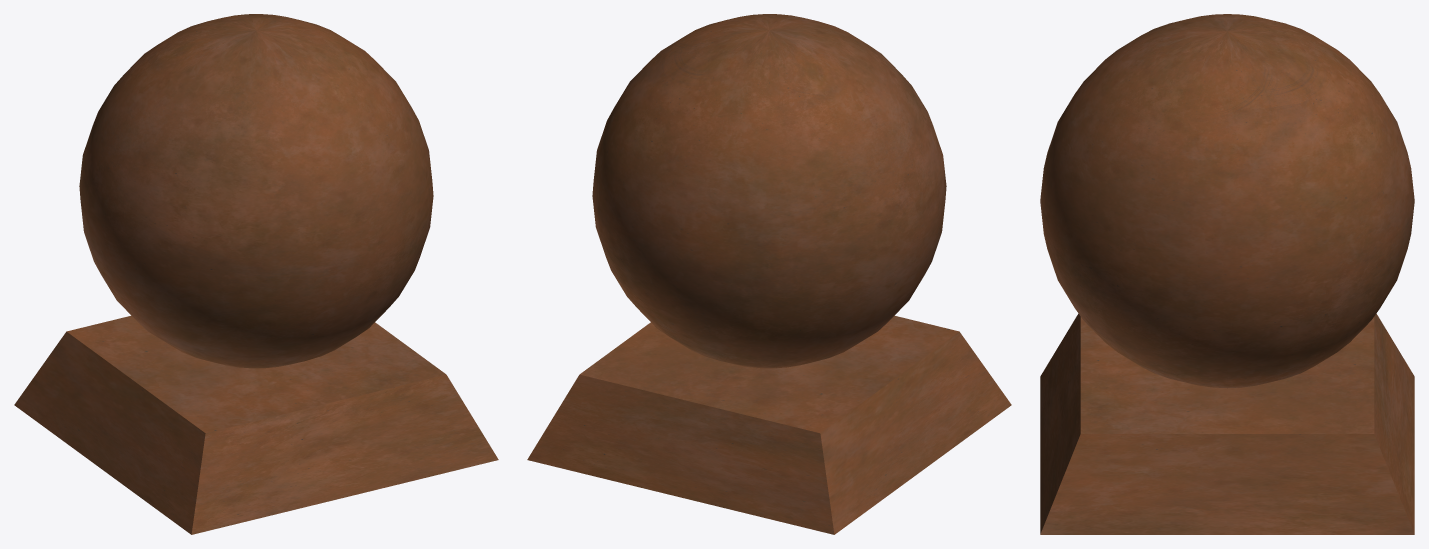
File: bronze.glb
3 views of the same model, side by side, from view 1: azimuth 30°, elevation 25°; view 2: azimuth 150°, elevation 25°; view 3: azimuth 270°, elevation 25° (orthographic). The views are drawn at different scales.
Parts seen in each view (by area): view 1: Cube; view 2: Cube; view 3: Cube.
Part boxes in pixels (x1,y1,x2,y2): Cube: (14,14,498,534); Cube: (527,14,1011,534); Cube: (1040,14,1414,534).
Bounding box in the file's own units: 2 × 2.5 × 2.
1 material, 1 textured.
